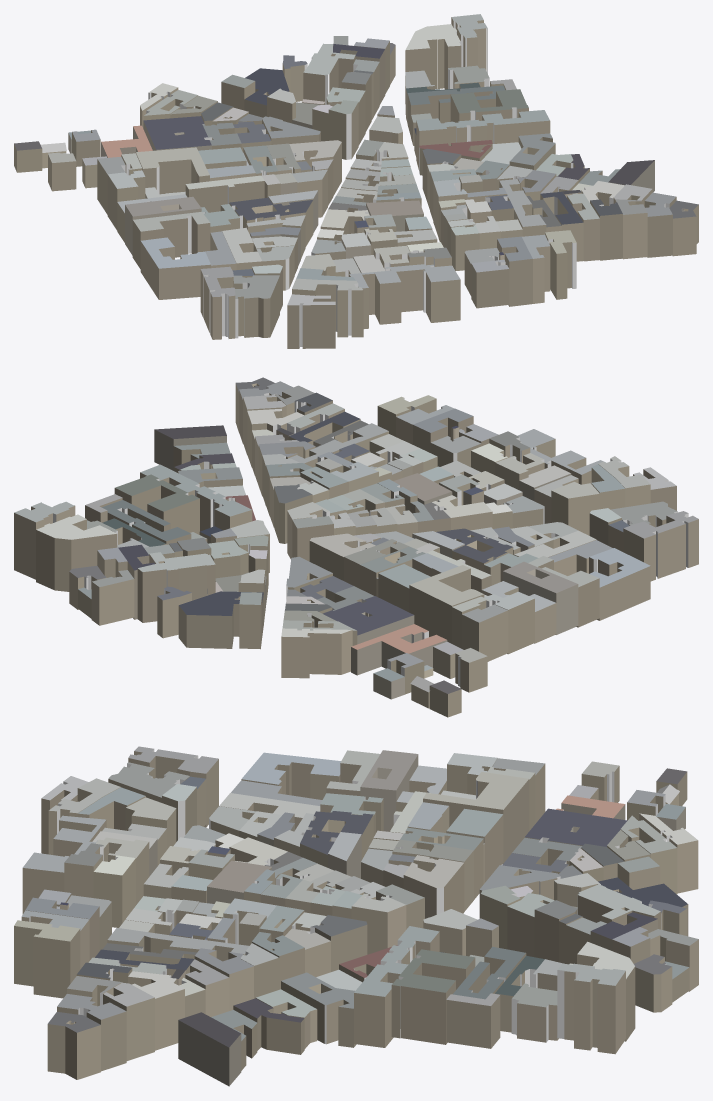
3 renders of one model, top to bottom at view 1: azimuth 30°, elevation 25°; view 2: azimuth 150°, elevation 25°; view 3: azimuth 270°, elevation 25°, orthographic. The views are drawn at different scales.
Parts seen in each view (by area): view 1: tuile; view 2: tuile; view 3: tuile.
Boxes of the visible parts, bbox=[...] form: tuile: bbox=[14, 14, 698, 348]; tuile: bbox=[14, 377, 698, 717]; tuile: bbox=[14, 746, 698, 1086].
Size of the model in its own units: 278 by 42.22 by 271.
